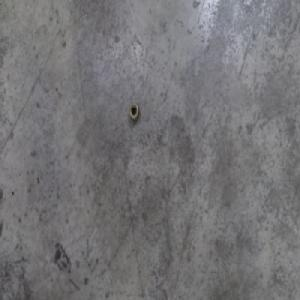Nut: (128, 102, 140, 123)
